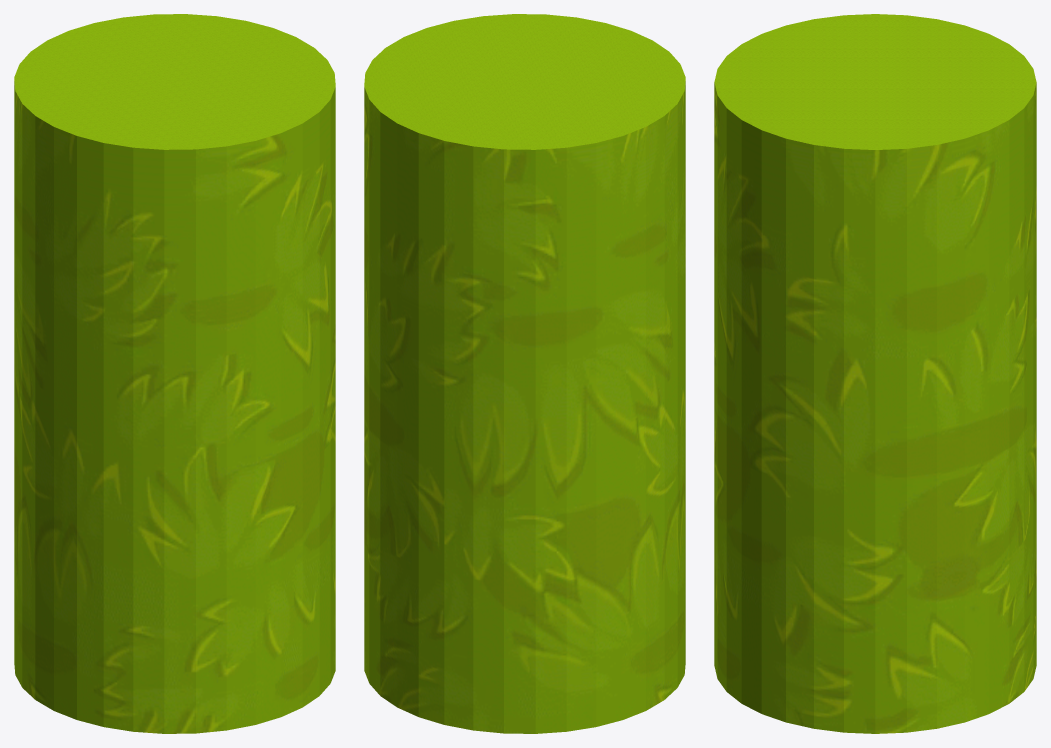
Rendered from floating_island.glb.
The picture shows the model from 3 angles, left to right: view 1: azimuth 30°, elevation 25°; view 2: azimuth 150°, elevation 25°; view 3: azimuth 270°, elevation 25°; orthographic projection.
Parts seen in each view (by area): view 1: Cylinder; view 2: Cylinder; view 3: Cylinder.
Part boxes in pixels (x1,y1,x2,y2): Cylinder: (14, 14, 335, 733); Cylinder: (364, 14, 685, 733); Cylinder: (714, 14, 1036, 733).
Bounding box in the file's own units: 1 × 2 × 1.
1 material, 1 textured.
